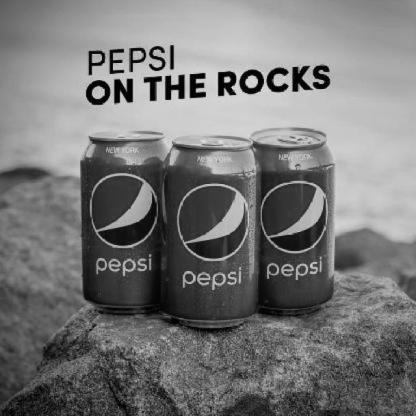alumunium_can: (162, 132, 260, 330), (251, 126, 338, 316), (80, 128, 168, 314)
